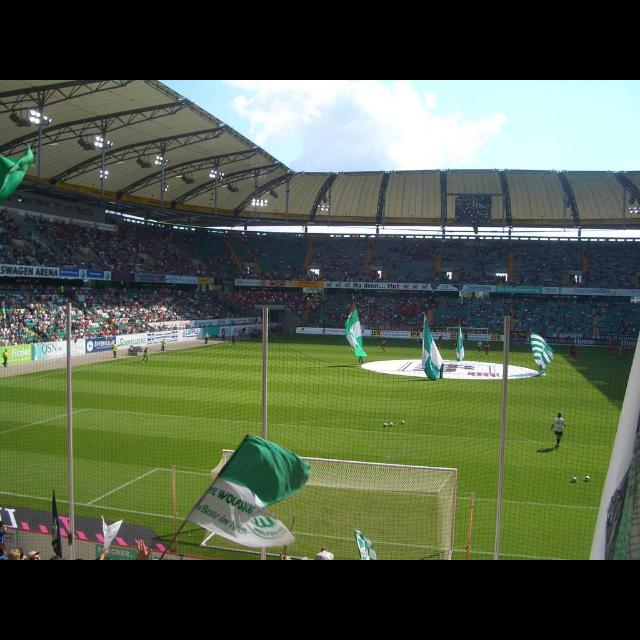Football: (584, 476, 590, 480)
